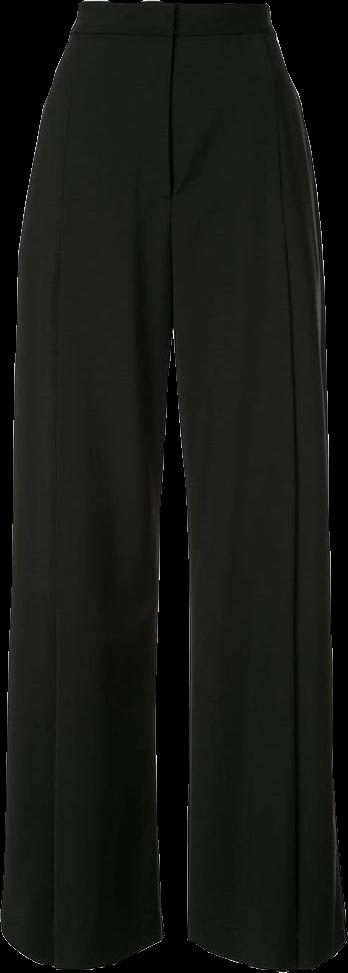Hemline: (0, 919, 167, 971), (188, 931, 347, 972)
Pantleg: (173, 0, 346, 970), (1, 0, 173, 970)
Waistline: (69, 21, 274, 43), (80, 0, 265, 14)
